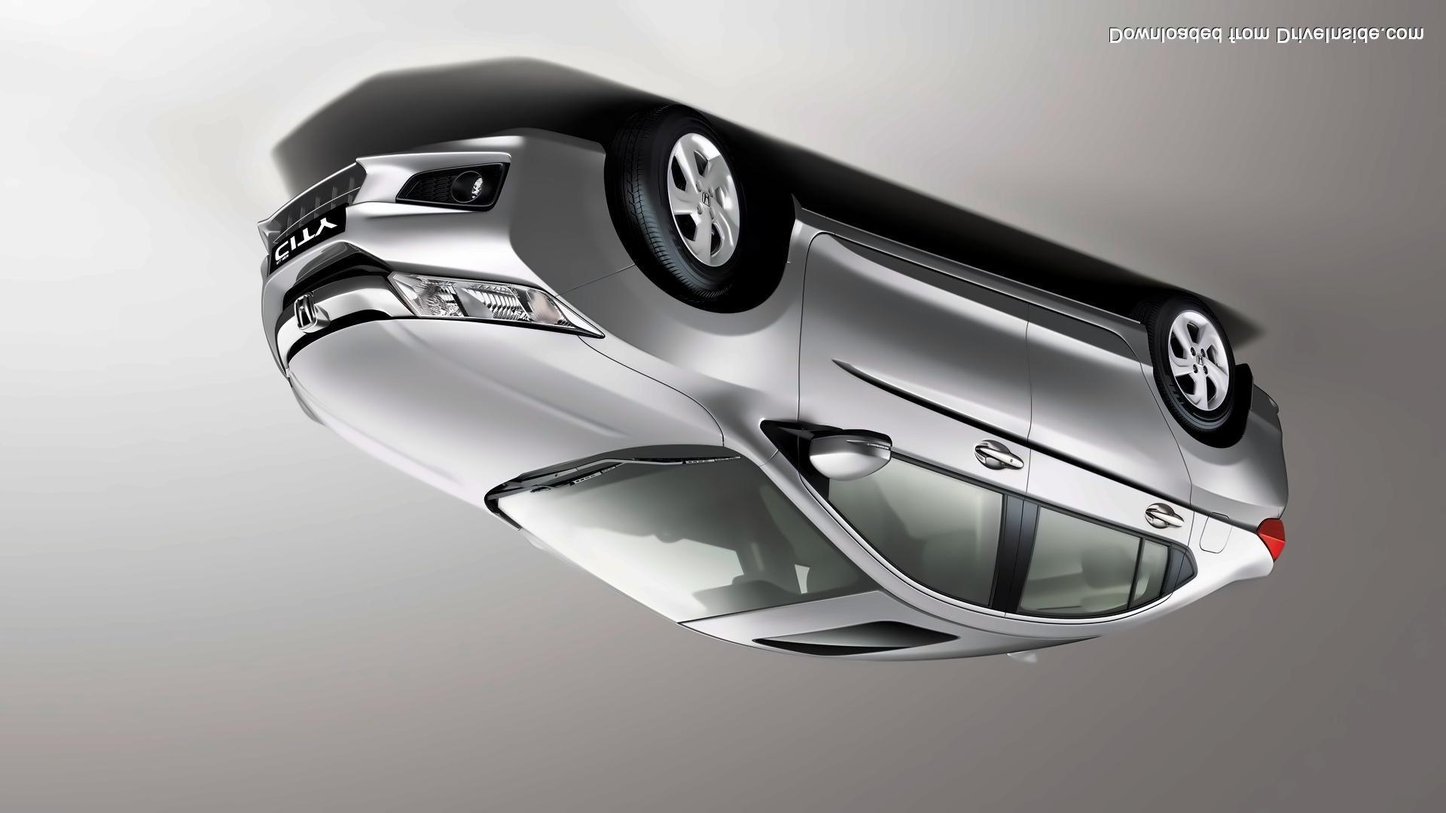Car hood: (278, 318, 734, 511)
Driver-s door - -F-R-: (780, 177, 1041, 674)
Fender - -F-R-: (542, 182, 839, 464)
Fender - -R-R-: (1137, 331, 1284, 624)
Front bumper: (249, 119, 657, 346)
Headlight - -R-: (380, 269, 608, 340)
Passenger-s door - -R-R-: (984, 261, 1214, 650)
Rear bumper: (1219, 353, 1304, 532)
Rear light - -R-: (1255, 513, 1291, 568)
Side bumper - -R-: (785, 198, 1170, 422)
Side mirror - -R-: (766, 417, 899, 486)
